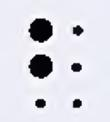one_cell_alphabet_bakit: (28, 18, 84, 108)
